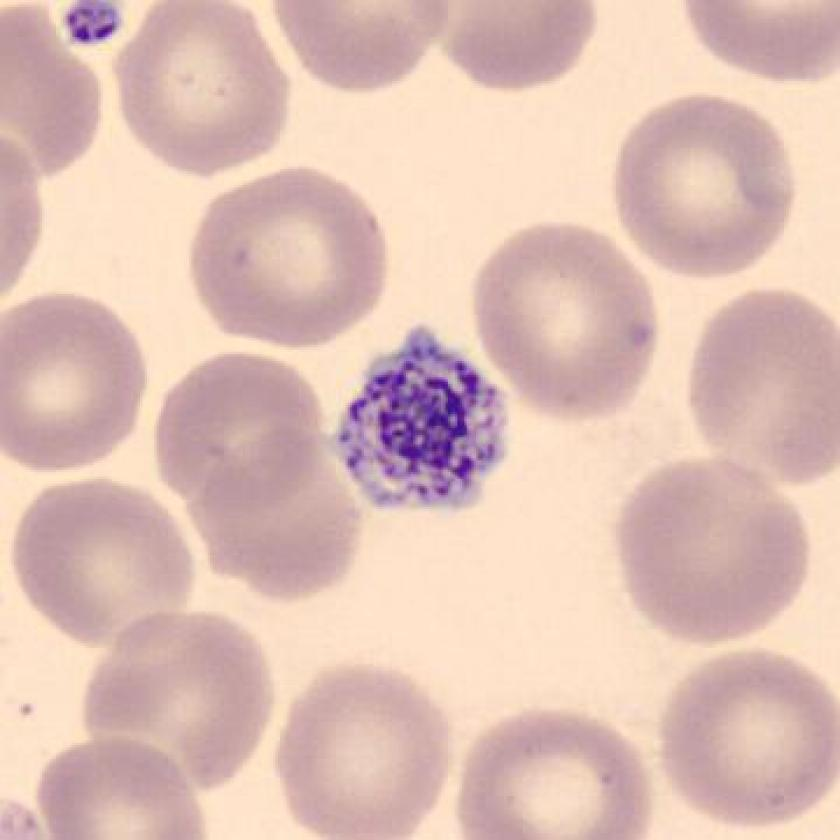platelets: (321, 316, 528, 524)
